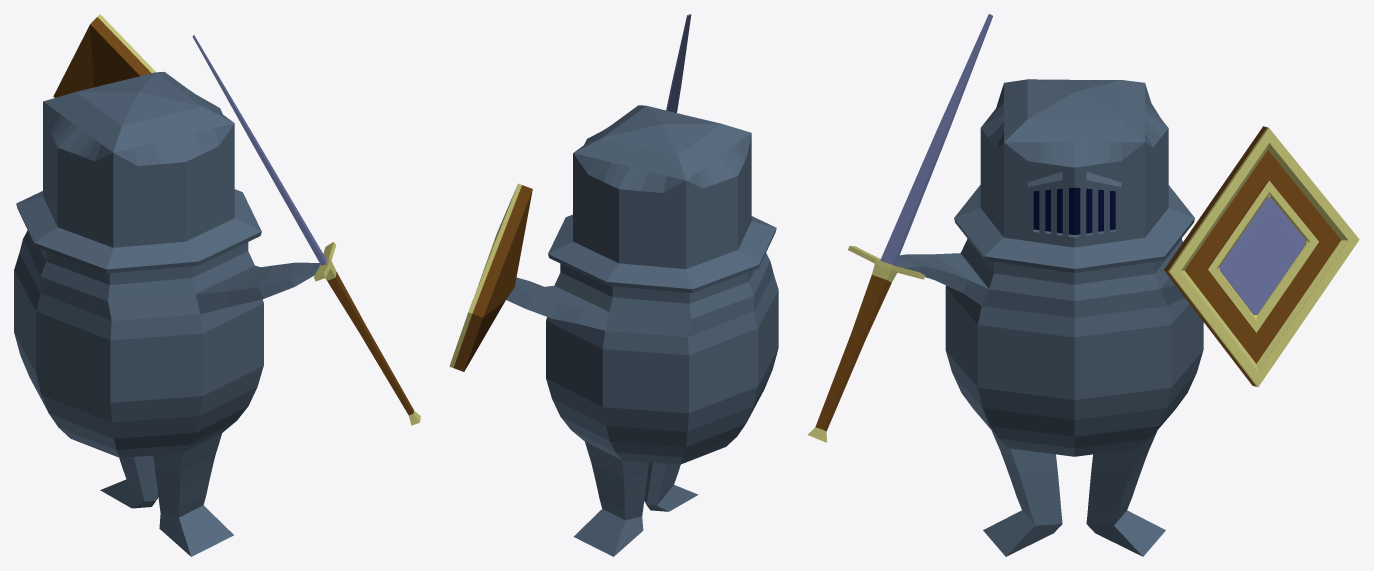
File: Knight.fbx
3 views of the same model, side by side, from view 1: azimuth 30°, elevation 25°; view 2: azimuth 150°, elevation 25°; view 3: azimuth 270°, elevation 25° (orthographic). The views are drawn at different scales.
Visible parts, largest first — view 1: Cube; view 2: Cube; view 3: Cube.
Boxes of the visible parts, x1,y1,x2,y2 form: Cube: (14,14,420,556); Cube: (449,14,778,556); Cube: (807,14,1359,556).
Bounding box in the file's own units: 321 × 609 × 587.
